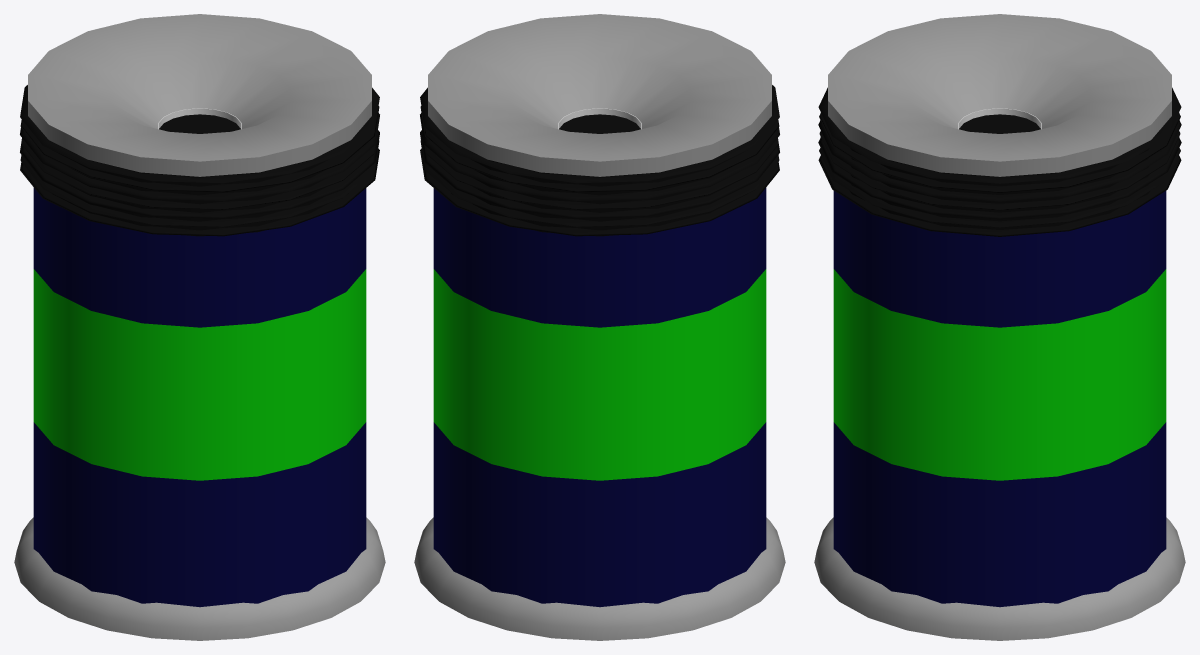
The model's file is Prullenbak (textured).FBX.
The picture shows the model from 3 angles, left to right: view 1: azimuth 30°, elevation 25°; view 2: azimuth 150°, elevation 25°; view 3: azimuth 270°, elevation 25°; orthographic projection.
Parts seen in each view (by area): view 1: Cylinder002, Cylinder004, Cylinder001, Cylinder003, Hose001, Torus001, Cylinder005, Cylinder008, Cylinder007; view 2: Cylinder002, Cylinder004, Cylinder001, Cylinder003, Hose001, Torus001, Cylinder005, Cylinder008, Cylinder007; view 3: Cylinder002, Cylinder004, Cylinder001, Cylinder003, Hose001, Torus001, Cylinder005, Cylinder008, Cylinder007.
Boxes of the visible parts, x1,y1,x2,y2 form: Cylinder002: [33, 269, 366, 480]; Cylinder004: [28, 14, 371, 176]; Cylinder001: [33, 422, 366, 607]; Cylinder003: [33, 187, 366, 327]; Hose001: [20, 85, 379, 236]; Torus001: [14, 517, 385, 640]; Cylinder005: [52, 150, 348, 236]; Cylinder008: [159, 114, 240, 133]; Cylinder007: [158, 108, 241, 129]; Cylinder002: [433, 269, 766, 480]; Cylinder004: [428, 14, 771, 176]; Cylinder001: [433, 422, 766, 607]; Cylinder003: [433, 187, 766, 327]; Hose001: [420, 85, 779, 236]; Torus001: [414, 517, 785, 640]; Cylinder005: [451, 150, 747, 236]; Cylinder008: [559, 114, 640, 133]; Cylinder007: [558, 108, 641, 129]; Cylinder002: [833, 269, 1166, 480]; Cylinder004: [828, 14, 1171, 176]; Cylinder001: [833, 422, 1166, 607]; Cylinder003: [833, 191, 1166, 327]; Hose001: [818, 87, 1181, 236]; Torus001: [814, 517, 1185, 640]; Cylinder005: [850, 148, 1149, 229]; Cylinder008: [959, 114, 1040, 133]; Cylinder007: [958, 108, 1041, 129].
Size of the model in its own units: 60.3 by 85.05 by 60.3.
